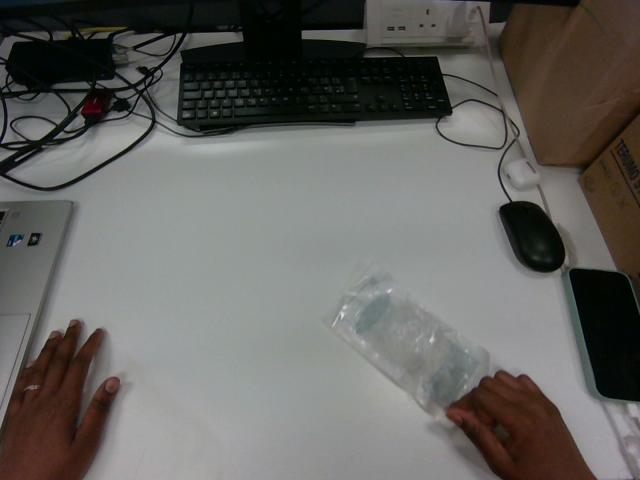gallipot: (328, 265, 488, 416)
